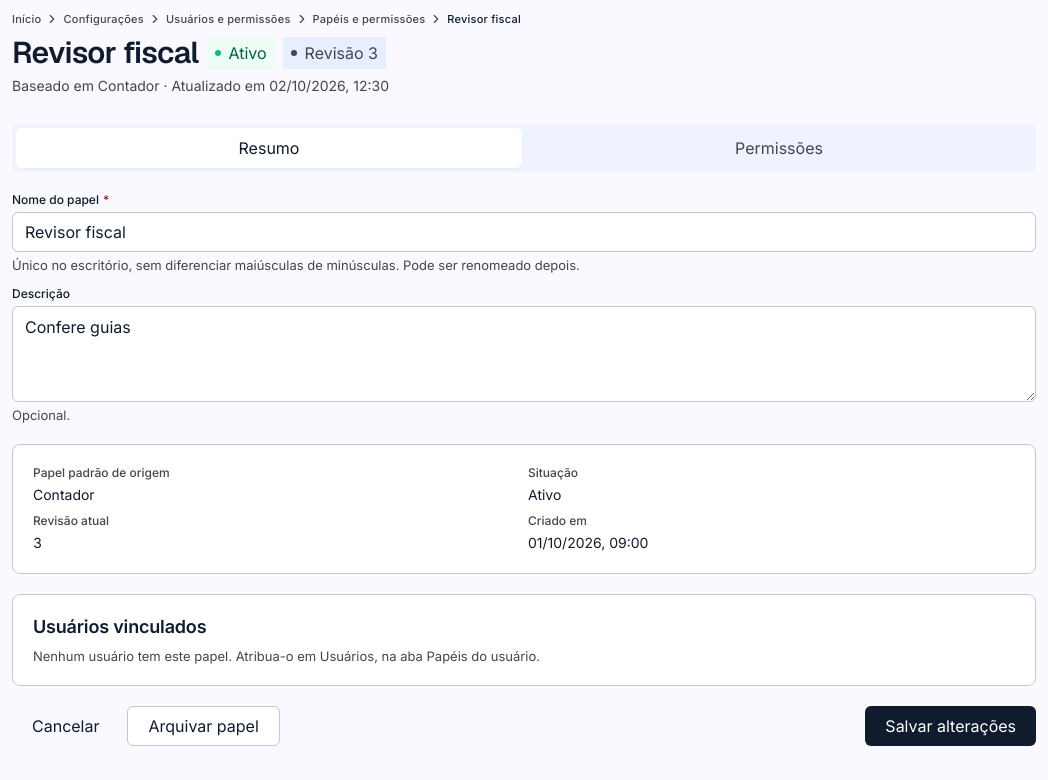
Scenario: salvar sem redução › nome em branco impede o envio e leva à aba Resumo com o erro
Clear the field labelled "Nome do papel*": (524, 232) [12, 212, 1036, 252]
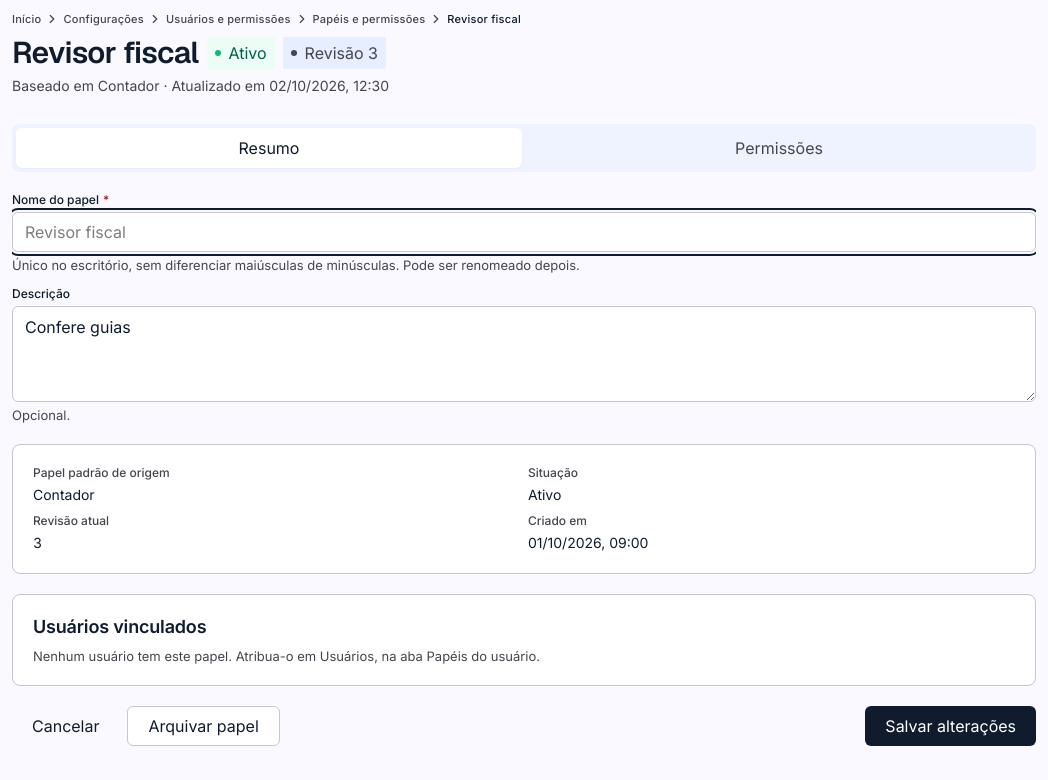
Click the button "Salvar alterações": (951, 726) [865, 706, 1036, 746]
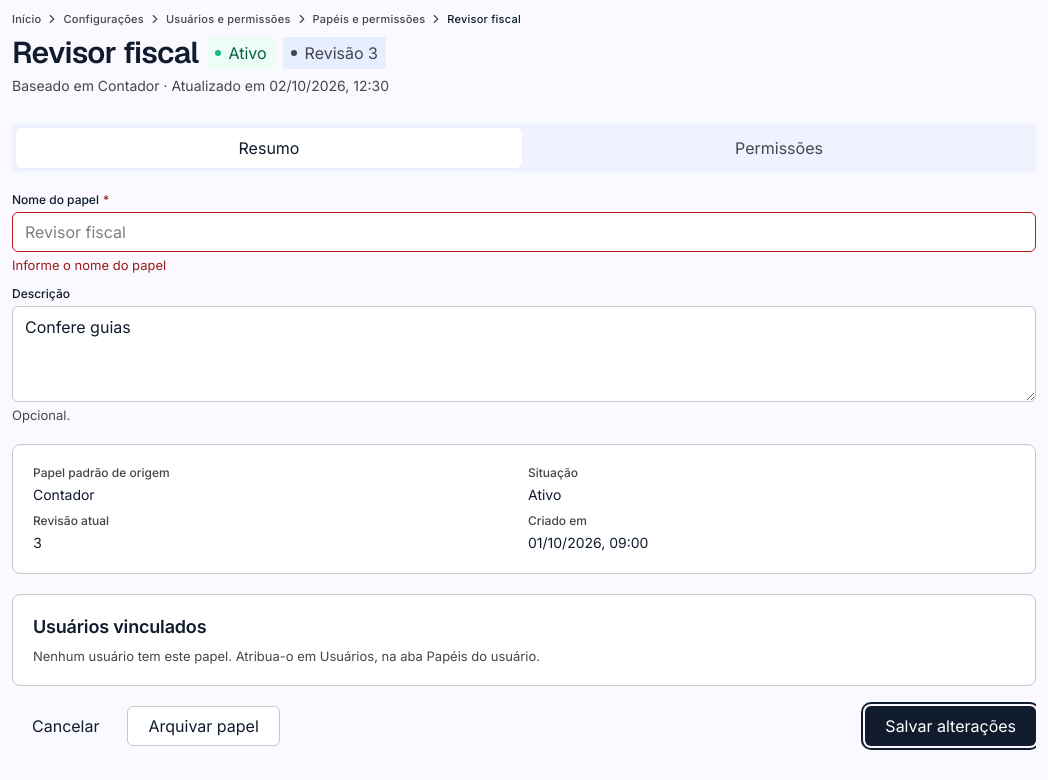
Expected: the text "Informe o nome do papel" is shown, [12, 257, 166, 273]
